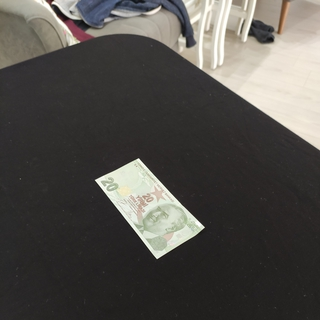20TLFront: (94, 157, 205, 259)
